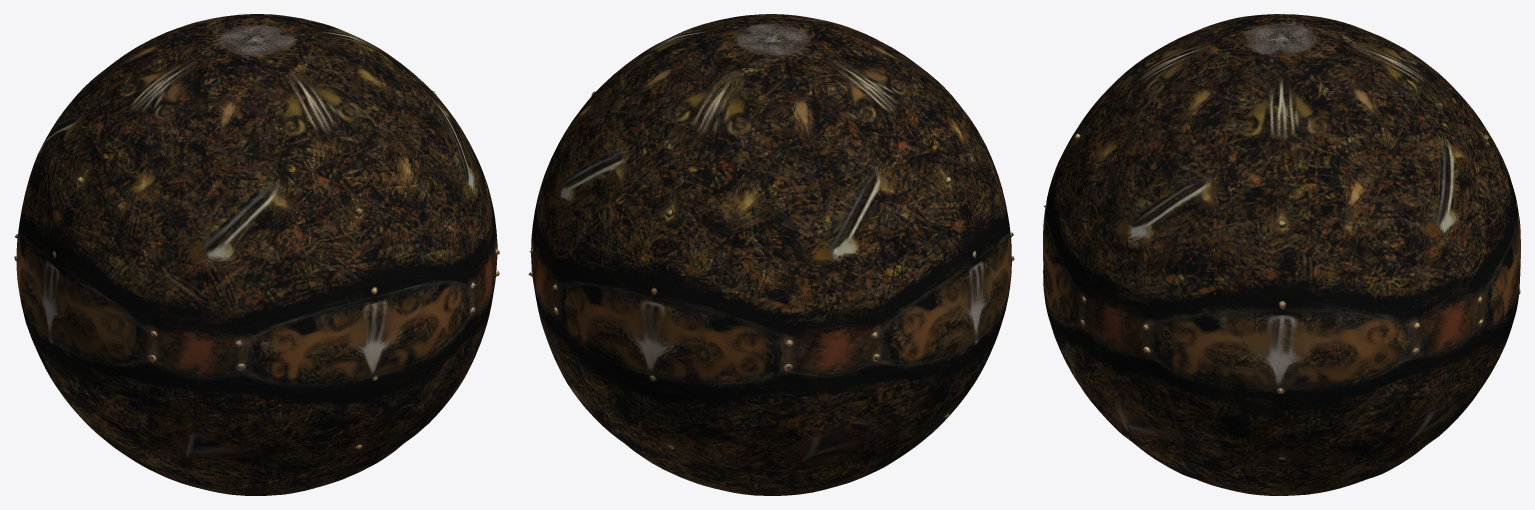
File: ceramic-clock-face-art-deco.jpeg.glb
3 views of the same model, side by side, from view 1: azimuth 30°, elevation 25°; view 2: azimuth 150°, elevation 25°; view 3: azimuth 270°, elevation 25° (orthographic).
Parts seen in each view (by area): view 1: world; view 2: world; view 3: world.
Part boxes in pixels (bbox=[...]): world: bbox=[14, 14, 499, 495]; world: bbox=[528, 14, 1014, 495]; world: bbox=[1043, 14, 1520, 495].
Size of the model in its own units: 0.9939 by 0.9928 by 0.9943.
Materials: 1 (1 with a texture image).
